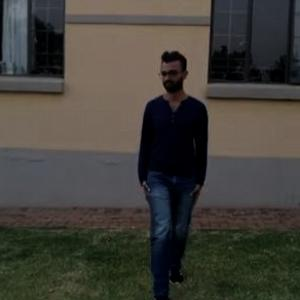follow: (134, 35, 216, 299)
